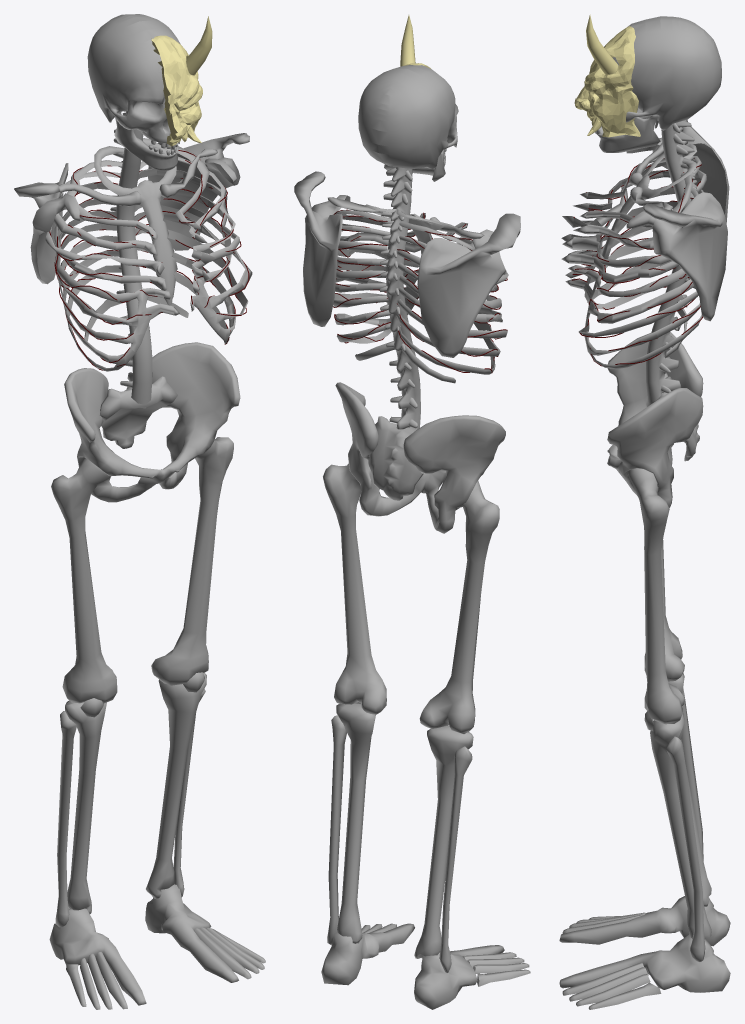
The model's file is Body.fbx.
The picture shows the model from 3 angles, left to right: view 1: azimuth 30°, elevation 25°; view 2: azimuth 150°, elevation 25°; view 3: azimuth 270°, elevation 25°; orthographic projection. The views are drawn at different scales.
Parts seen in each view (by area): view 1: polySurface25, polySurface62, polySurface71, Thigh_R, Calf_R, Thigh_L, Calf_L, Foot_R, Foot_L, oni_mask1, polySurface40, polySurface64 (+10 smaller); view 2: polySurface25, polySurface71, polySurface56, Calf_L, Thigh_R, Calf_R, Thigh_L, polySurface62, polySurface64, Foot_R, polySurface40, Foot_L (+6 smaller); view 3: polySurface25, polySurface71, Foot_L, polySurface62, polySurface64, Thigh_L, Calf_L, oni_mask1, Foot_R, polySurface40, polySurface56, polySurface65 (+7 smaller).
Part boxes in pixels (box(x1,y1,x2,y2)): polySurface25: box(64, 342, 240, 502); polySurface62: box(55, 198, 252, 371); polySurface71: box(87, 14, 180, 143); Thigh_R: box(51, 458, 117, 703); Calf_R: box(55, 698, 106, 927); Thigh_L: box(151, 437, 233, 685); Calf_L: box(146, 672, 206, 899); Foot_R: box(49, 908, 146, 1009); Foot_L: box(145, 884, 265, 982); oni_mask1: box(151, 16, 212, 146); polySurface40: box(116, 111, 152, 408); polySurface64: box(148, 133, 249, 250); polySurface25: box(335, 382, 505, 533); polySurface71: box(358, 65, 458, 169); polySurface56: box(417, 213, 520, 357); Calf_L: box(327, 702, 375, 945); Thigh_R: box(419, 480, 499, 733); Calf_R: box(414, 725, 473, 973); Thigh_L: box(323, 463, 386, 714); polySurface62: box(333, 263, 507, 374); polySurface64: box(294, 171, 350, 326); Foot_R: box(414, 945, 530, 1009); polySurface40: box(386, 167, 420, 429); Foot_L: box(321, 923, 414, 985); polySurface25: box(607, 332, 703, 507); polySurface71: box(597, 16, 721, 130); Foot_L: box(559, 935, 730, 1009); polySurface62: box(565, 201, 702, 369); polySurface64: box(626, 192, 727, 321); Thigh_L: box(628, 468, 684, 724); Calf_L: box(644, 710, 711, 961); oni_mask1: box(574, 14, 640, 137); Foot_R: box(559, 896, 730, 946); polySurface40: box(646, 120, 696, 403); polySurface56: box(626, 119, 729, 223); polySurface65: box(562, 170, 706, 267).
Bounding box in the file's own units: 54.66 × 220 × 35.27.
